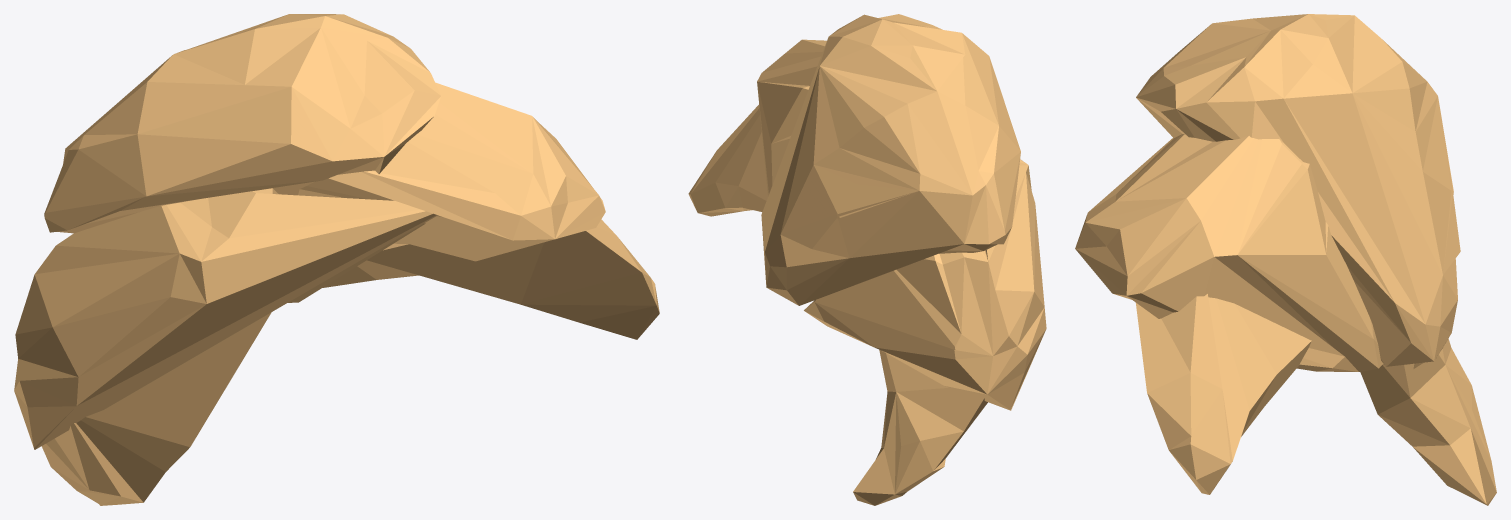
3 renders of one model, left to right at view 1: azimuth 30°, elevation 25°; view 2: azimuth 150°, elevation 25°; view 3: azimuth 270°, elevation 25°, orthographic. The views are drawn at different scales.
Visible parts, largest first — view 1: group_893585884; view 2: group_893585884; view 3: group_893585884.
Boxes of the visible parts, box(x1,y1,x2,y2) form: group_893585884: box(14, 14, 659, 505); group_893585884: box(688, 14, 1046, 505); group_893585884: box(1075, 14, 1496, 505).
Size of the model in its own units: 35.84 by 34.56 by 25.72.
